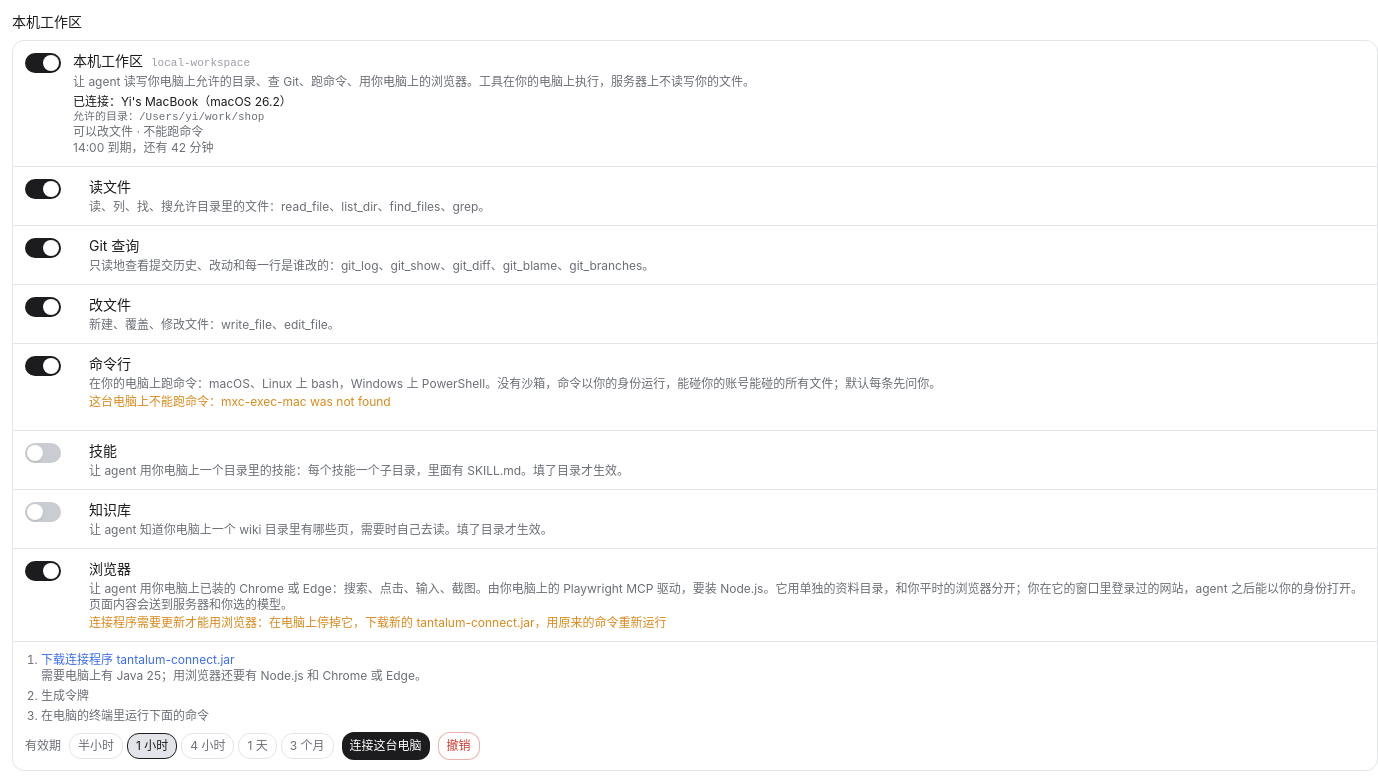
it: LocalWorkspaceCard › explains a computer that cannot run commands, and stays quiet once the switch is off
Expected: the text "这台电脑上不能跑命令：mxc-exec-mac was not found" is shown, top-left (89, 394), bottom-right (391, 409)
Click the switch named "命令行".
click(43, 366)  # box top-left (25, 356), bottom-right (61, 376)
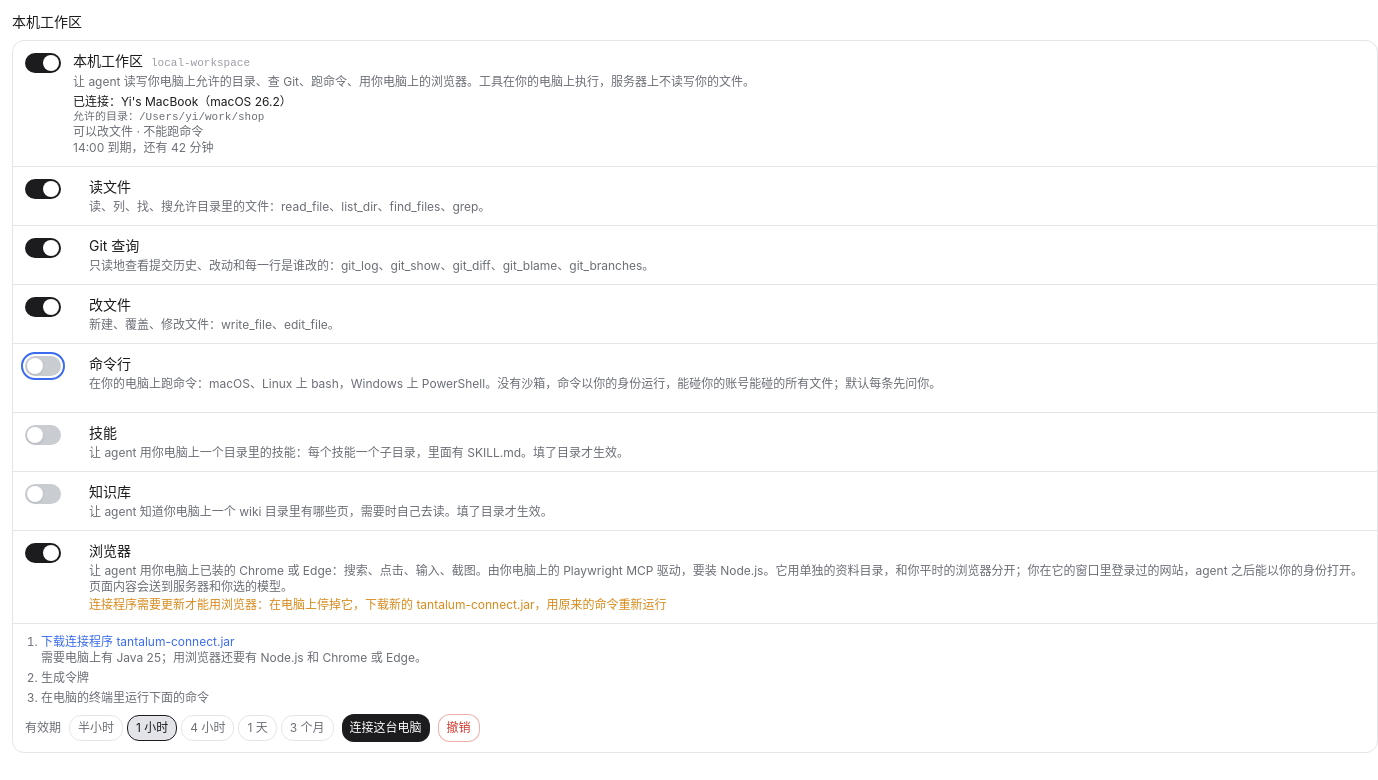
Expected: the text "这台电脑上不能跑命令" is gone
